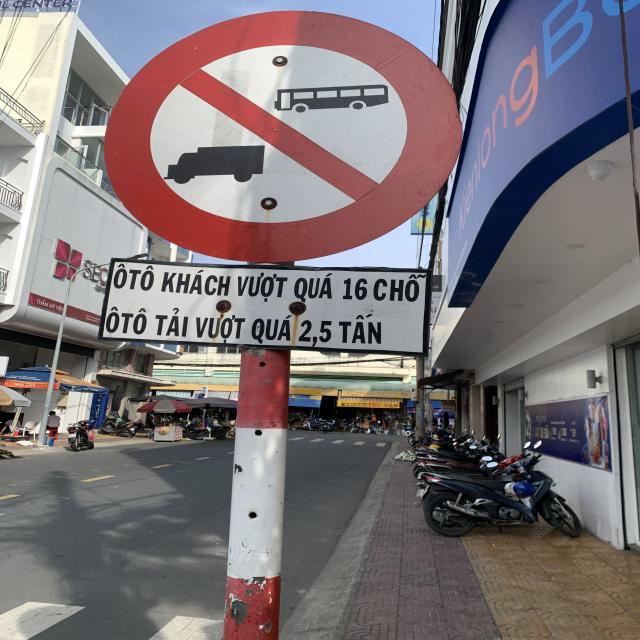Cam_XeTai_XeKhach: (102, 10, 469, 263)
